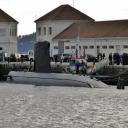submarine: (8, 41, 126, 90)
